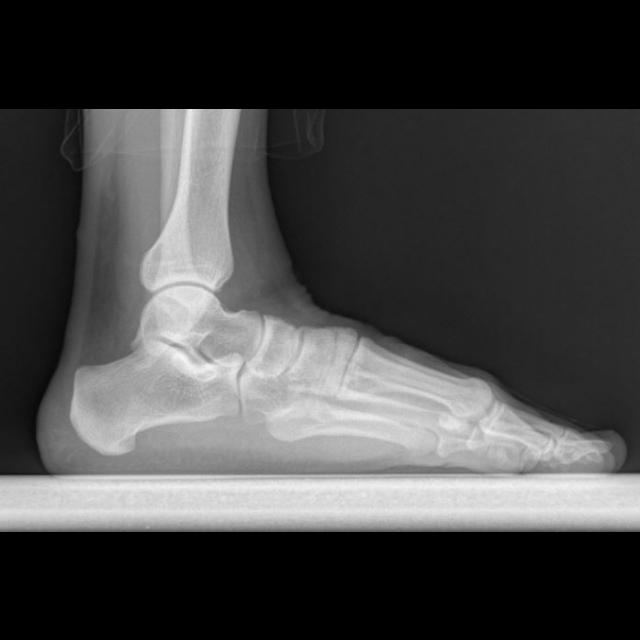a: (69, 338, 245, 455)
b: (246, 314, 299, 376)
c: (339, 335, 492, 418)
